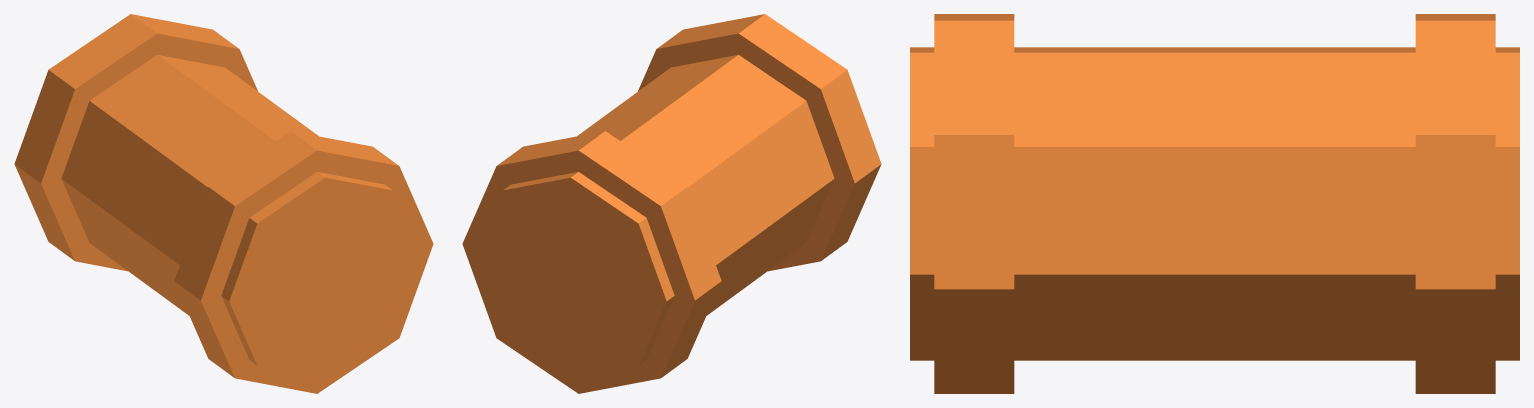
Rendered from item-copper.glb.
3 renders of one model, left to right at view 1: azimuth 30°, elevation 25°; view 2: azimuth 150°, elevation 25°; view 3: azimuth 270°, elevation 25°, orthographic. The views are drawn at different scales.
Parts seen in each view (by area): view 1: item-copper; view 2: item-copper; view 3: item-copper.
Part boxes in pixels (x1,y1,x2,y2): item-copper: (14,14,433,393); item-copper: (462,14,881,393); item-copper: (910,14,1519,393).
Bounding box in the file's own units: 0.252 × 0.252 × 0.38.
